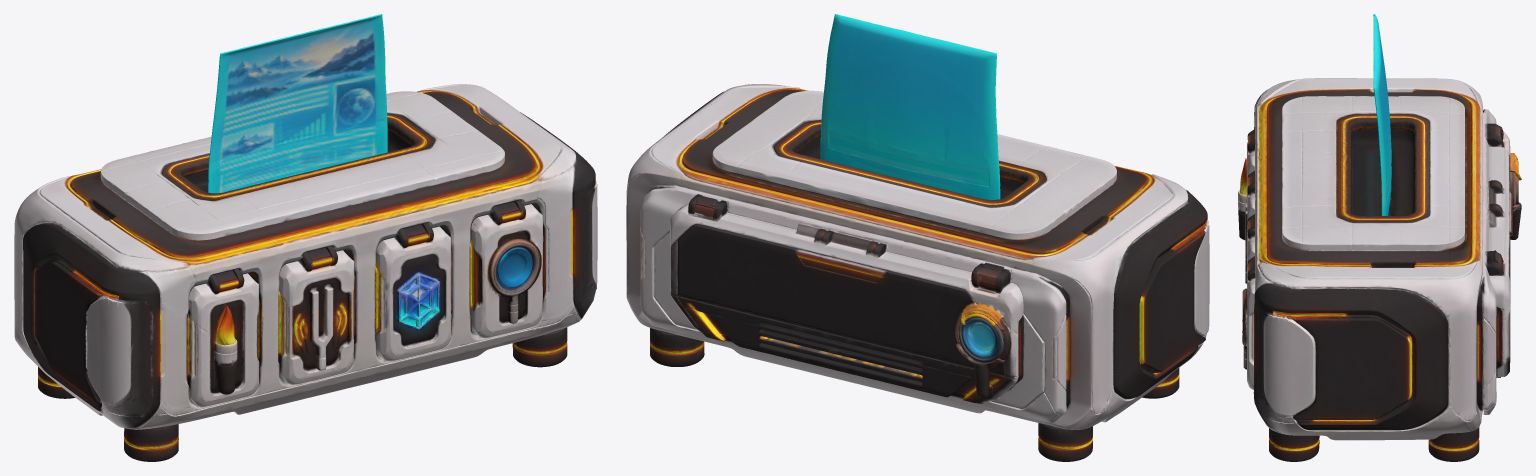
File: press.glb
The picture shows the model from 3 angles, left to right: view 1: azimuth 30°, elevation 25°; view 2: azimuth 150°, elevation 25°; view 3: azimuth 270°, elevation 25°; orthographic projection. The views are drawn at different scales.
Parts seen in each view (by area): view 1: tripo_node_94800d4c-6929-4a60-a147-dcb18639941e; view 2: tripo_node_94800d4c-6929-4a60-a147-dcb18639941e; view 3: tripo_node_94800d4c-6929-4a60-a147-dcb18639941e.
Part boxes in pixels (box(x1,y1,x2,y2)): tripo_node_94800d4c-6929-4a60-a147-dcb18639941e: box(14, 14, 597, 461); tripo_node_94800d4c-6929-4a60-a147-dcb18639941e: box(626, 14, 1209, 461); tripo_node_94800d4c-6929-4a60-a147-dcb18639941e: box(1238, 14, 1521, 461).
Bounding box in the file's own units: 0.9807 × 0.6386 × 0.5238.
1 material, 1 textured.
